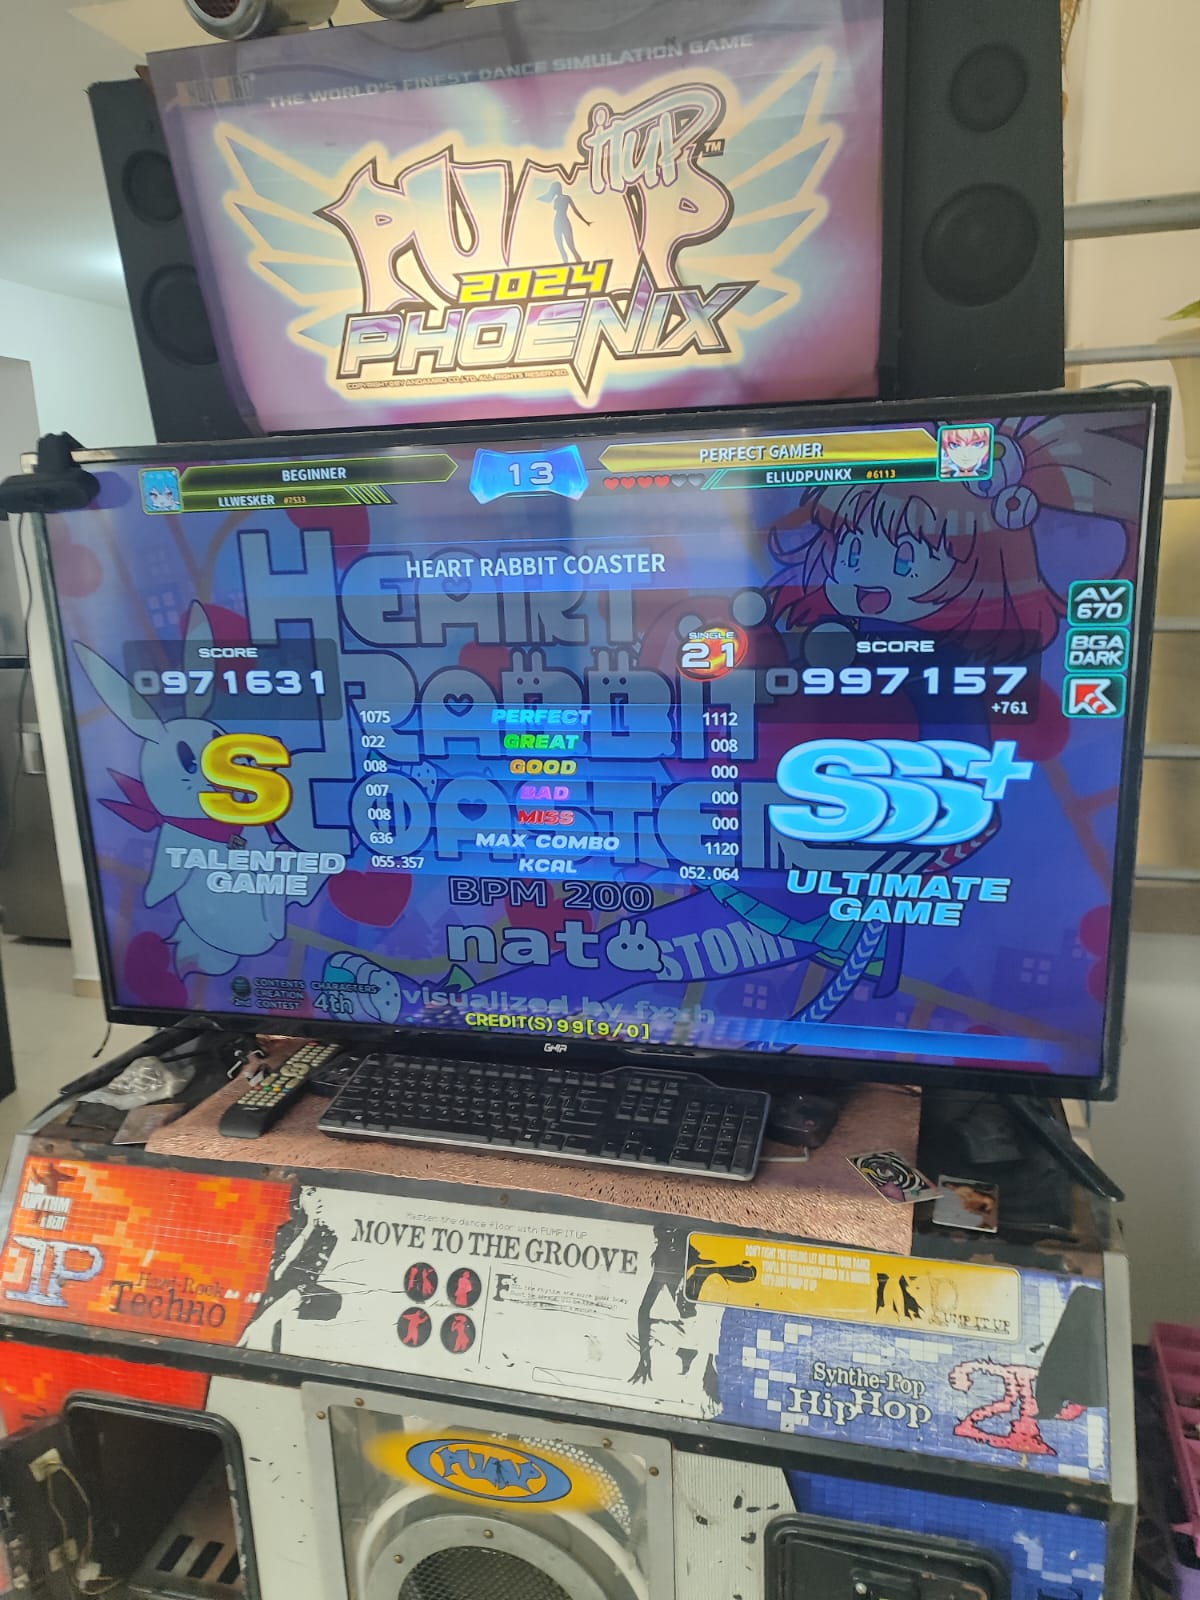difficulty: (668, 612, 758, 699)
fullscore: (267, 432, 1168, 1091)
rank: (755, 726, 1039, 845)
score: (750, 612, 1058, 702)
song_name: (373, 530, 702, 603)
